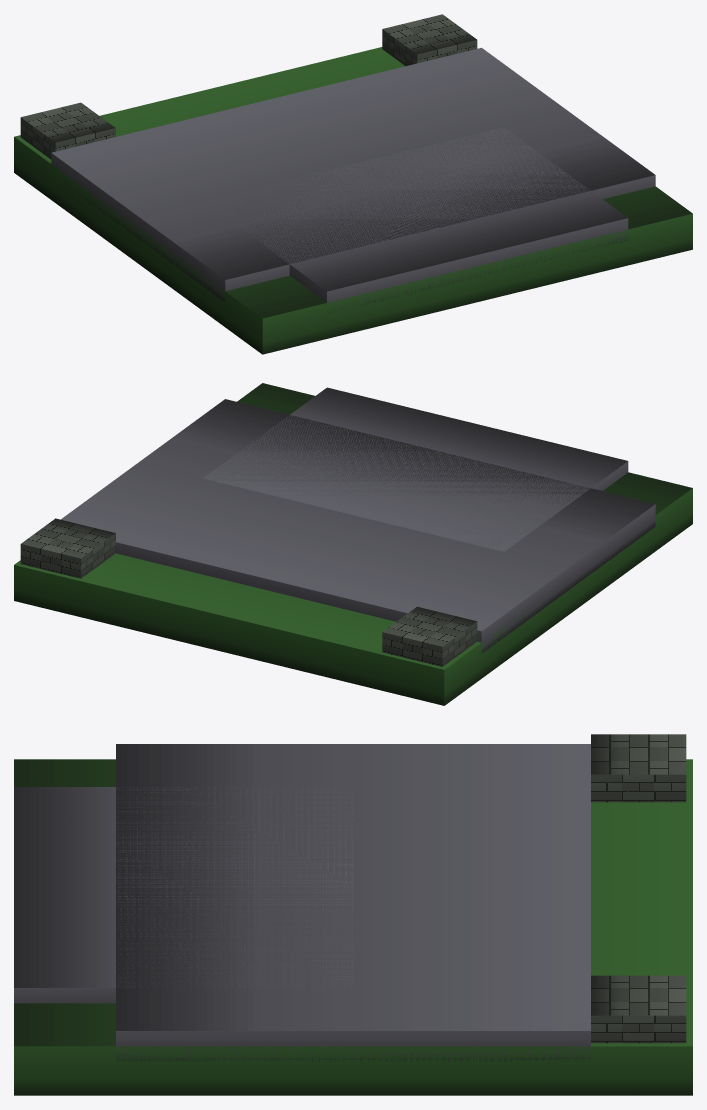
File: road_tee.gltf
The picture shows the model from 3 angles, top to bottom: view 1: azimuth 30°, elevation 25°; view 2: azimuth 150°, elevation 25°; view 3: azimuth 270°, elevation 25°; orthographic projection. The views are drawn at different scales.
Visible parts, largest first — view 1: road_tee; view 2: road_tee; view 3: road_tee.
Boxes of the visible parts, left/top/right/bottom form: road_tee: left=14, top=14, right=692, bottom=354; road_tee: left=14, top=383, right=692, bottom=705; road_tee: left=14, top=734, right=692, bottom=1095.
Bounding box in the file's own units: 1 × 0.125 × 1.
1 material, 1 textured.
